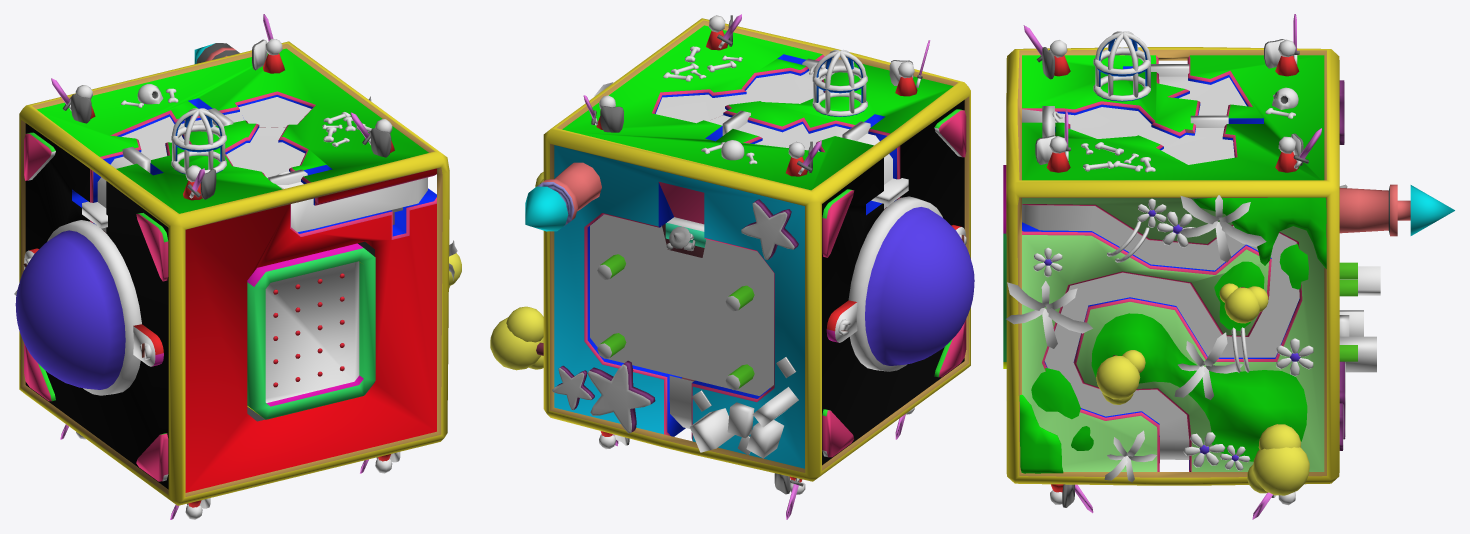
The model's file is CubeFinal2.fbx.
3 views of the same model, side by side, from view 1: azimuth 30°, elevation 25°; view 2: azimuth 150°, elevation 25°; view 3: azimuth 270°, elevation 25° (orthographic). The views are drawn at different scales.
Visible parts, largest first — view 1: FinalCube.002, Cube.009, Sphere, FinalCube.001, Plane, Cylinder.032, Cylinder.013, Cube.002, Cylinder.009, Cylinder.008, Cylinder.014, Cylinder.010 (+1 smaller); view 2: FinalCube.002, FinalCube.001, Sphere, Plane, Cylinder.010, Cube.012, Cylinder.032, Cylinder.020, Cylinder.018, Cube.018, Cube.013, Cylinder.008 (+12 smaller); view 3: FinalCube.002, FinalCube.001, Plane.002, Plane.005, Cylinder.010, Cube.012, Cylinder.032, Plane.003, Cube.010, Plane.007, Cube.008, Plane.004 (+13 smaller).
Part boxes in pixels (x1,y1,x2,y2): FinalCube.002: [19, 41, 449, 505]; Cube.009: [247, 243, 375, 419]; Sphere: [15, 220, 141, 395]; FinalCube.001: [97, 97, 427, 232]; Plane: [24, 132, 168, 481]; Cylinder.032: [171, 108, 226, 174]; Cylinder.013: [252, 14, 284, 73]; Cube.002: [24, 248, 163, 366]; Cylinder.009: [51, 78, 95, 123]; Cylinder.008: [183, 165, 216, 200]; Cylinder.014: [350, 112, 394, 157]; Cylinder.010: [194, 43, 239, 63]; FinalCube.002: [543, 18, 970, 481]; FinalCube.001: [590, 58, 892, 428]; Sphere: [848, 196, 974, 371]; Plane: [822, 109, 966, 457]; Cylinder.010: [525, 162, 601, 231]; Cube.012: [490, 306, 543, 370]; Cylinder.032: [812, 49, 867, 116]; Cylinder.020: [587, 360, 655, 433]; Cylinder.018: [741, 199, 798, 259]; Cube.018: [690, 408, 734, 452]; Cube.013: [665, 217, 706, 250]; Cylinder.008: [889, 40, 930, 96]; FinalCube.002: [1006, 47, 1339, 485]; FinalCube.001: [1022, 76, 1299, 459]; Plane.002: [1091, 313, 1307, 461]; Plane.005: [1193, 197, 1326, 268]; Cylinder.010: [1339, 184, 1454, 236]; Cube.012: [1247, 424, 1309, 495]; Cylinder.032: [1093, 31, 1150, 101]; Plane.003: [1019, 394, 1063, 473]; Cube.010: [1096, 350, 1145, 404]; Plane.007: [1031, 368, 1080, 419]; Cube.008: [1219, 283, 1268, 323]; Plane.004: [1214, 261, 1264, 330].
Size of the model in its own units: 310 by 276 by 279.
